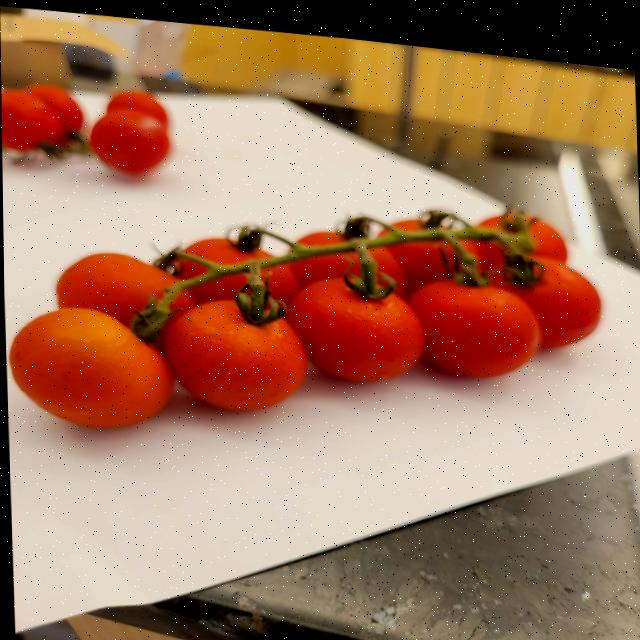ripe2: (9, 308, 173, 427), (161, 299, 307, 410), (286, 277, 424, 381), (409, 280, 542, 378), (492, 257, 601, 348), (56, 253, 174, 326), (184, 238, 272, 264), (291, 254, 349, 287), (191, 274, 245, 303), (373, 249, 405, 285), (297, 231, 344, 246), (177, 258, 206, 278)
